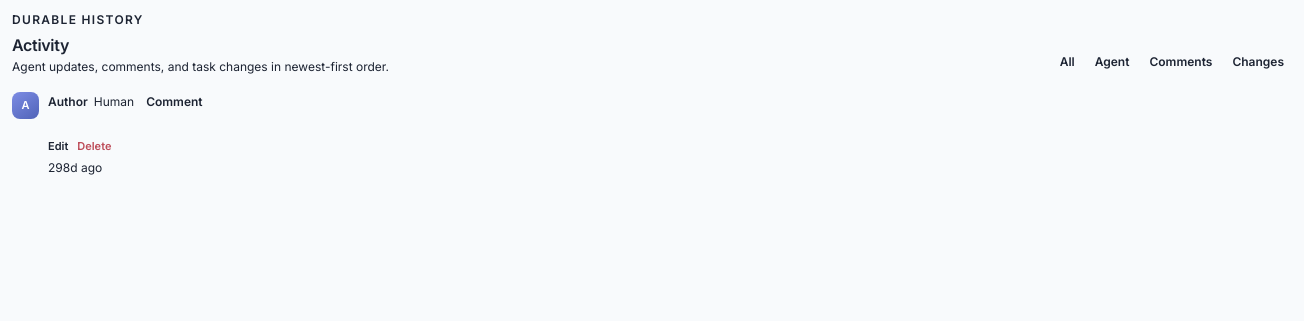
TaskActivityTimeline component › preserves a failed save draft and allows retrying the same text
Click the button "Edit": (58, 146) [48,137,68,155]
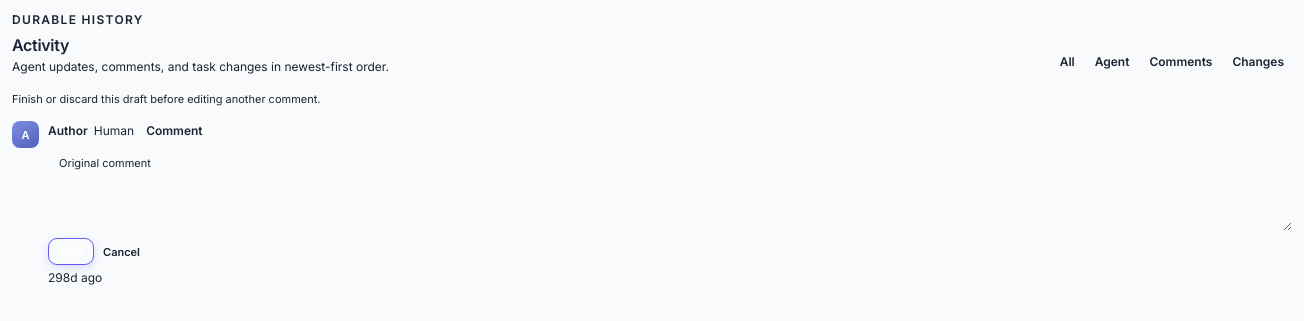
Replace the text in the text box named "Edit comment" with "Retry this draft": (670, 188) [48,145,1292,231]
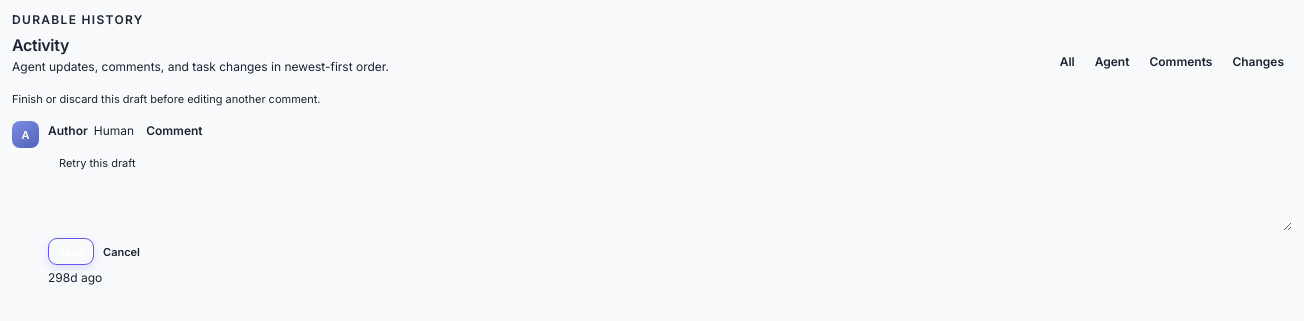
Click the button "Save": (71, 252) [48,238,94,265]
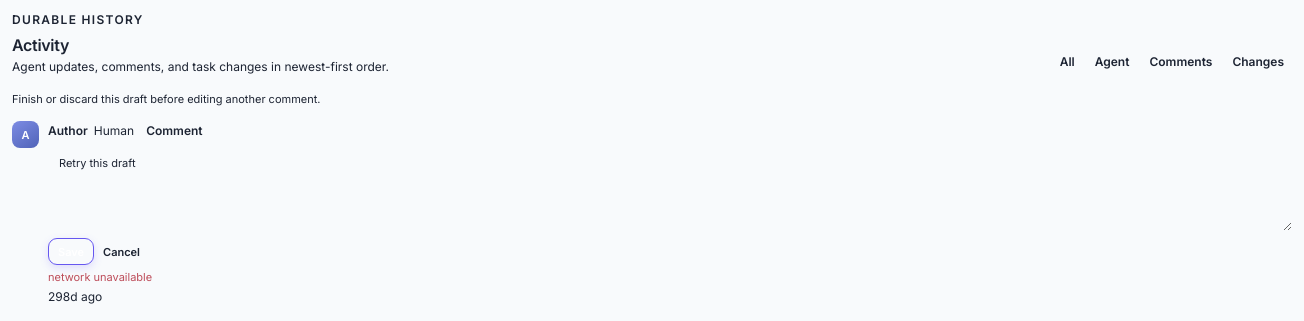
Expected: the text "network unavailable" is shown, [48,270,152,284]
Click the button "Save": (71, 252) [48,238,94,265]
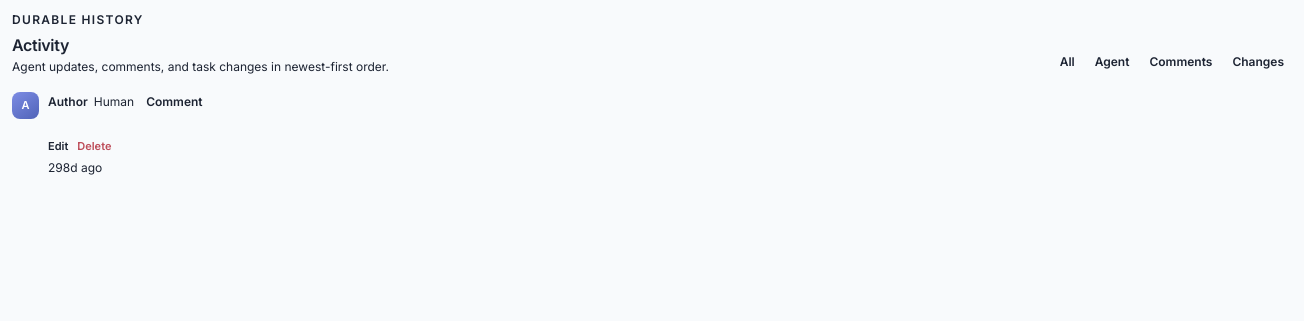
Expected: the element with class "task-timeline-comment-edit" is gone
